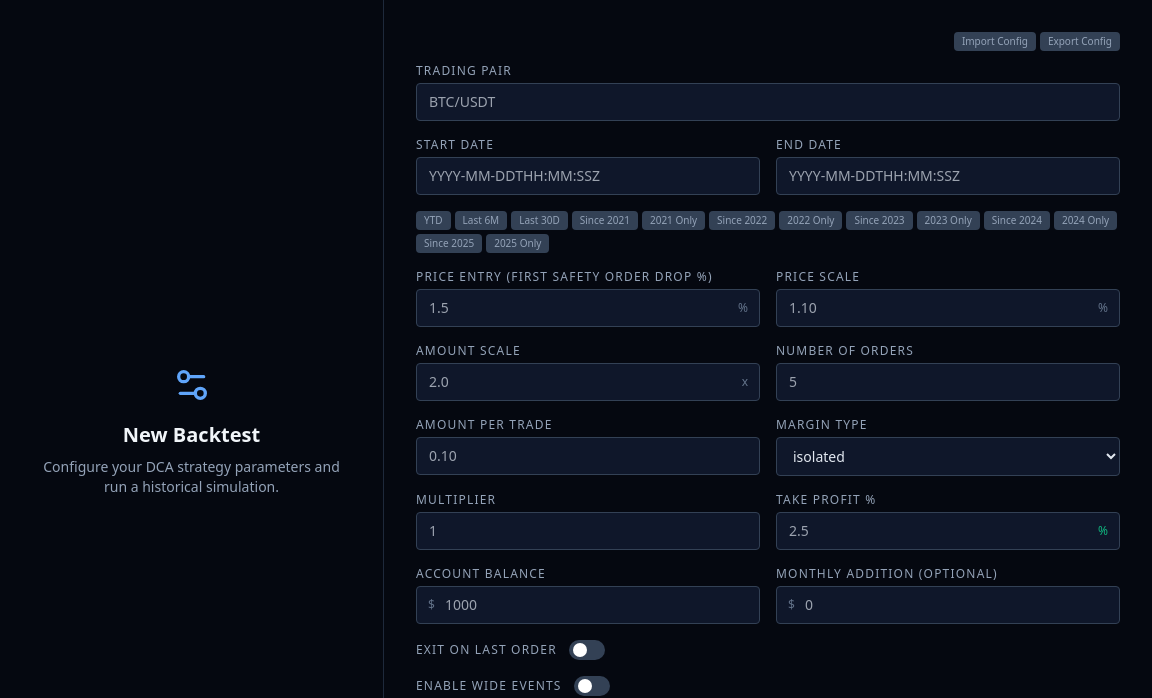
Test case: ConfigFormView — Import/Export (US5, T054) › T054-AC2: clicking Import Config reveals a textarea with placeholder
Click the button "Import Config": (995, 42) [954,32,1036,51]
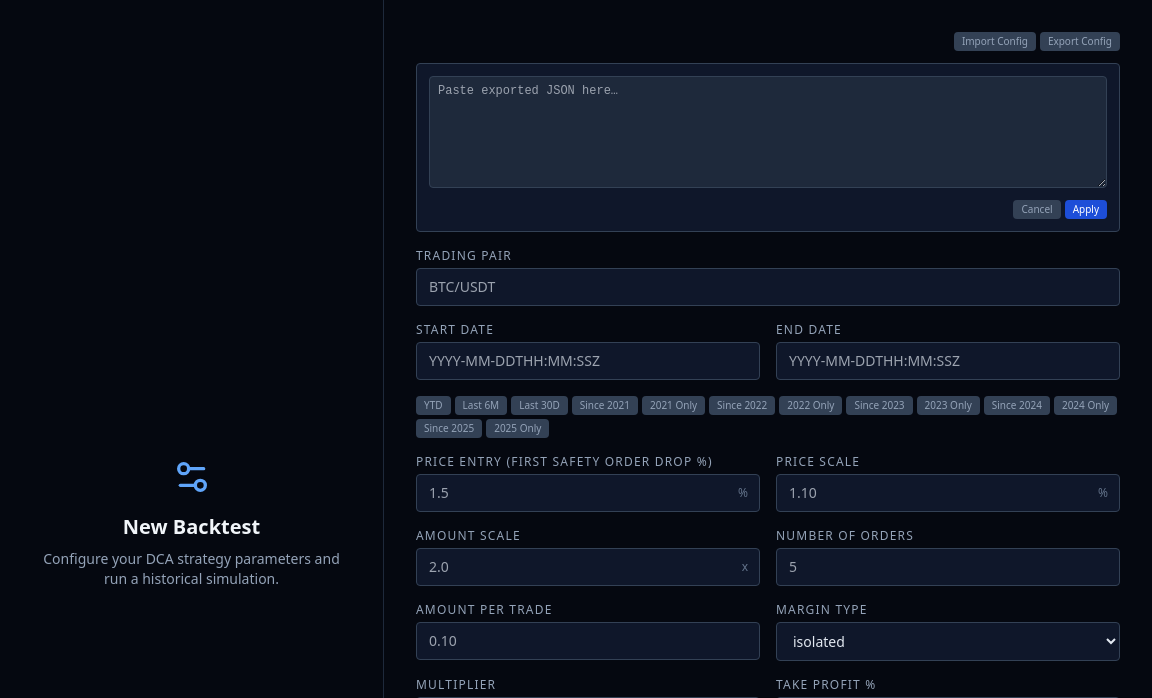
Expected: the text box named "import config json" is shown, [429,76,1107,188]
